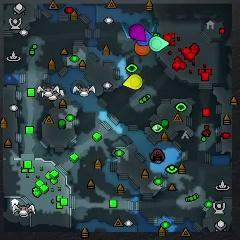p1: (137, 30, 152, 46)
p2: (150, 36, 170, 52)
p3: (129, 24, 146, 42)
p4: (124, 74, 142, 90)
p5: (134, 42, 150, 55)
